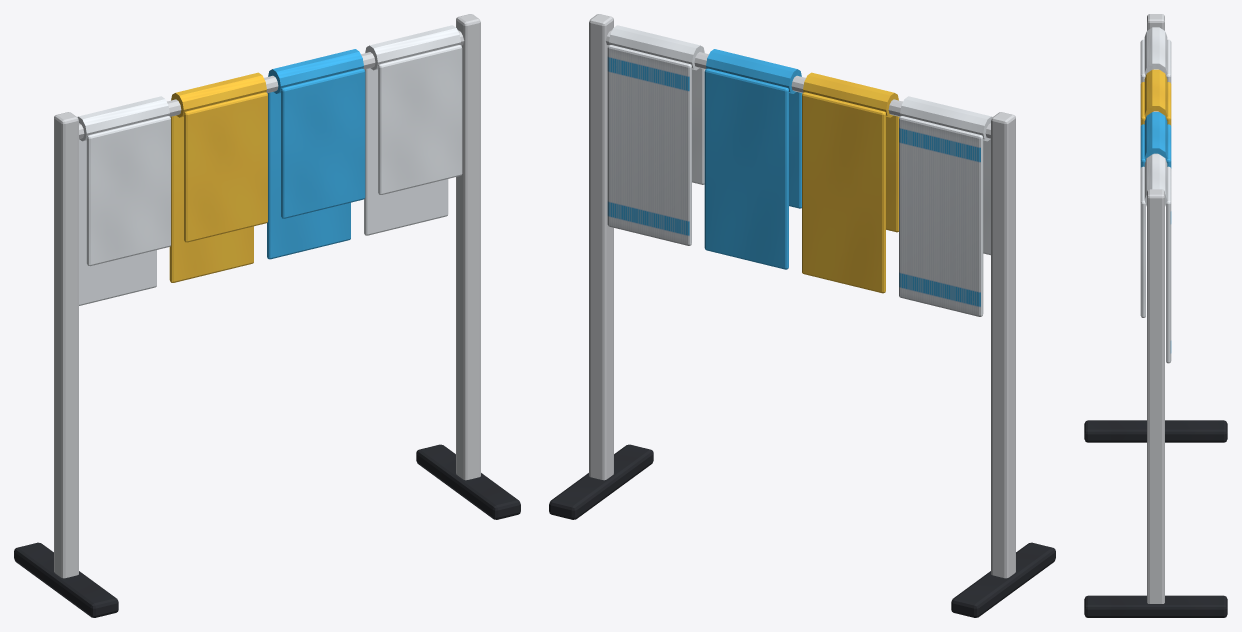
Rendered from SW_TowelRack.glb.
The picture shows the model from 3 angles, left to right: view 1: azimuth 30°, elevation 25°; view 2: azimuth 150°, elevation 25°; view 3: azimuth 270°, elevation 25°; orthographic projection. The views are drawn at different scales.
Parts seen in each view (by area): view 1: Towels, Rack; view 2: Towels, Rack; view 3: Rack, Towels.
Part boxes in pixels (<box>): Towels: <box>77,25,462,305</box>; Rack: <box>14,14,520,617</box>; Towels: <box>607,25,992,316</box>; Rack: <box>549,14,1055,617</box>; Rack: <box>1084,14,1227,617</box>; Towels: <box>1140,27,1171,363</box>.
Size of the model in its own units: 1.24 by 1.3 by 0.4.
Materials: 2 (1 with a texture image).
